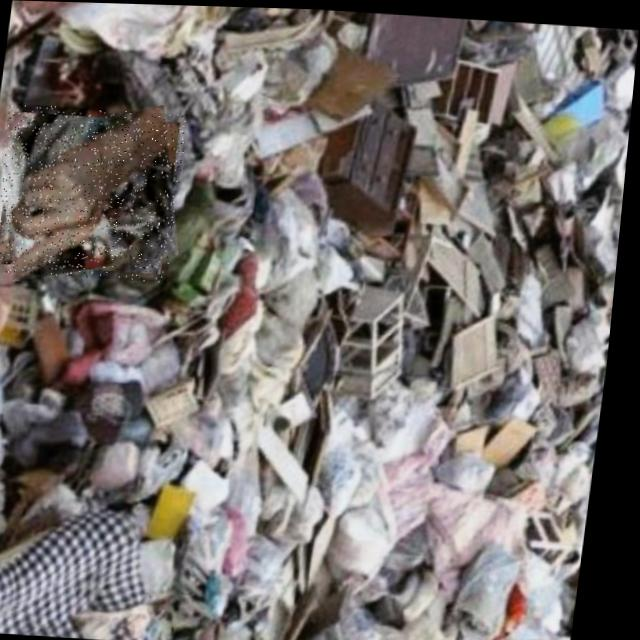Person in Rubble: (0, 103, 190, 281)
